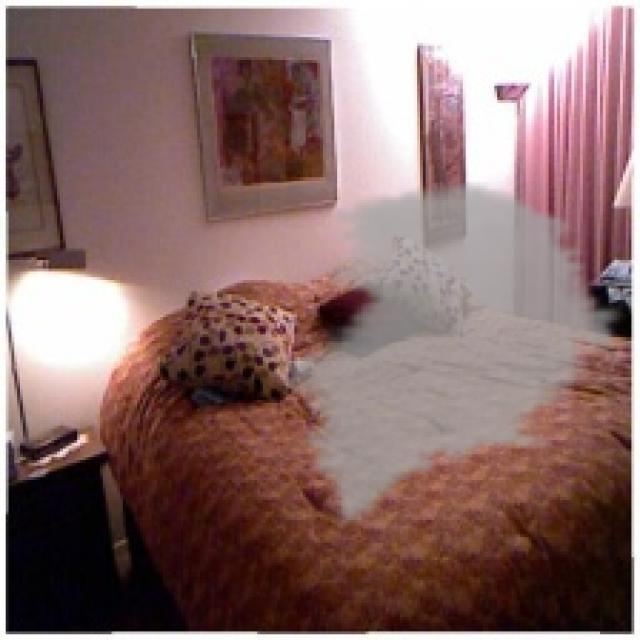Smoke: (277, 177, 629, 526)
